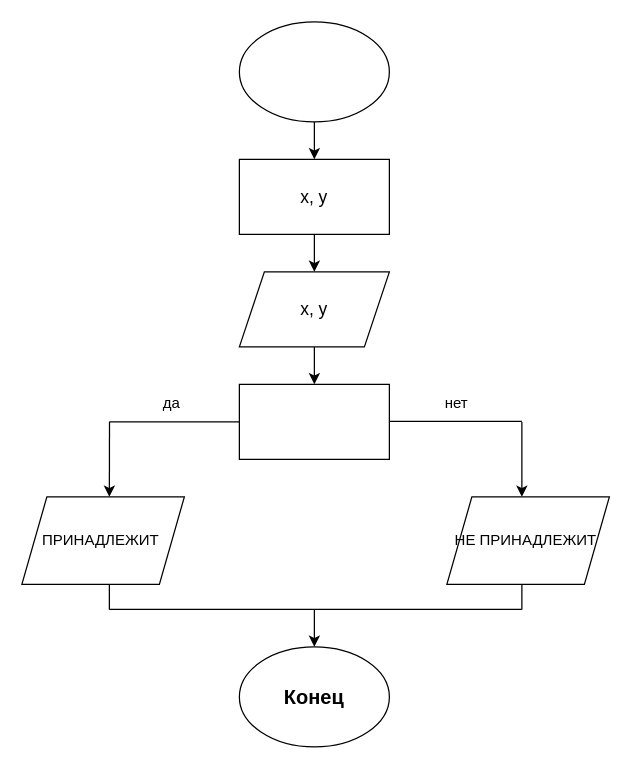
The diagram is 631 pixels wide and 769 high, and some of its shapes have lost their labels. The shapes that lost their labels are listed below. From the top down, each one's centre as x and y in pixels, then its label:
At (x=313, y=71): "Начало".
At (x=313, y=421): "(y <= 0.0 && y >= 1.5 * fabs(x) - 6.0)?".
